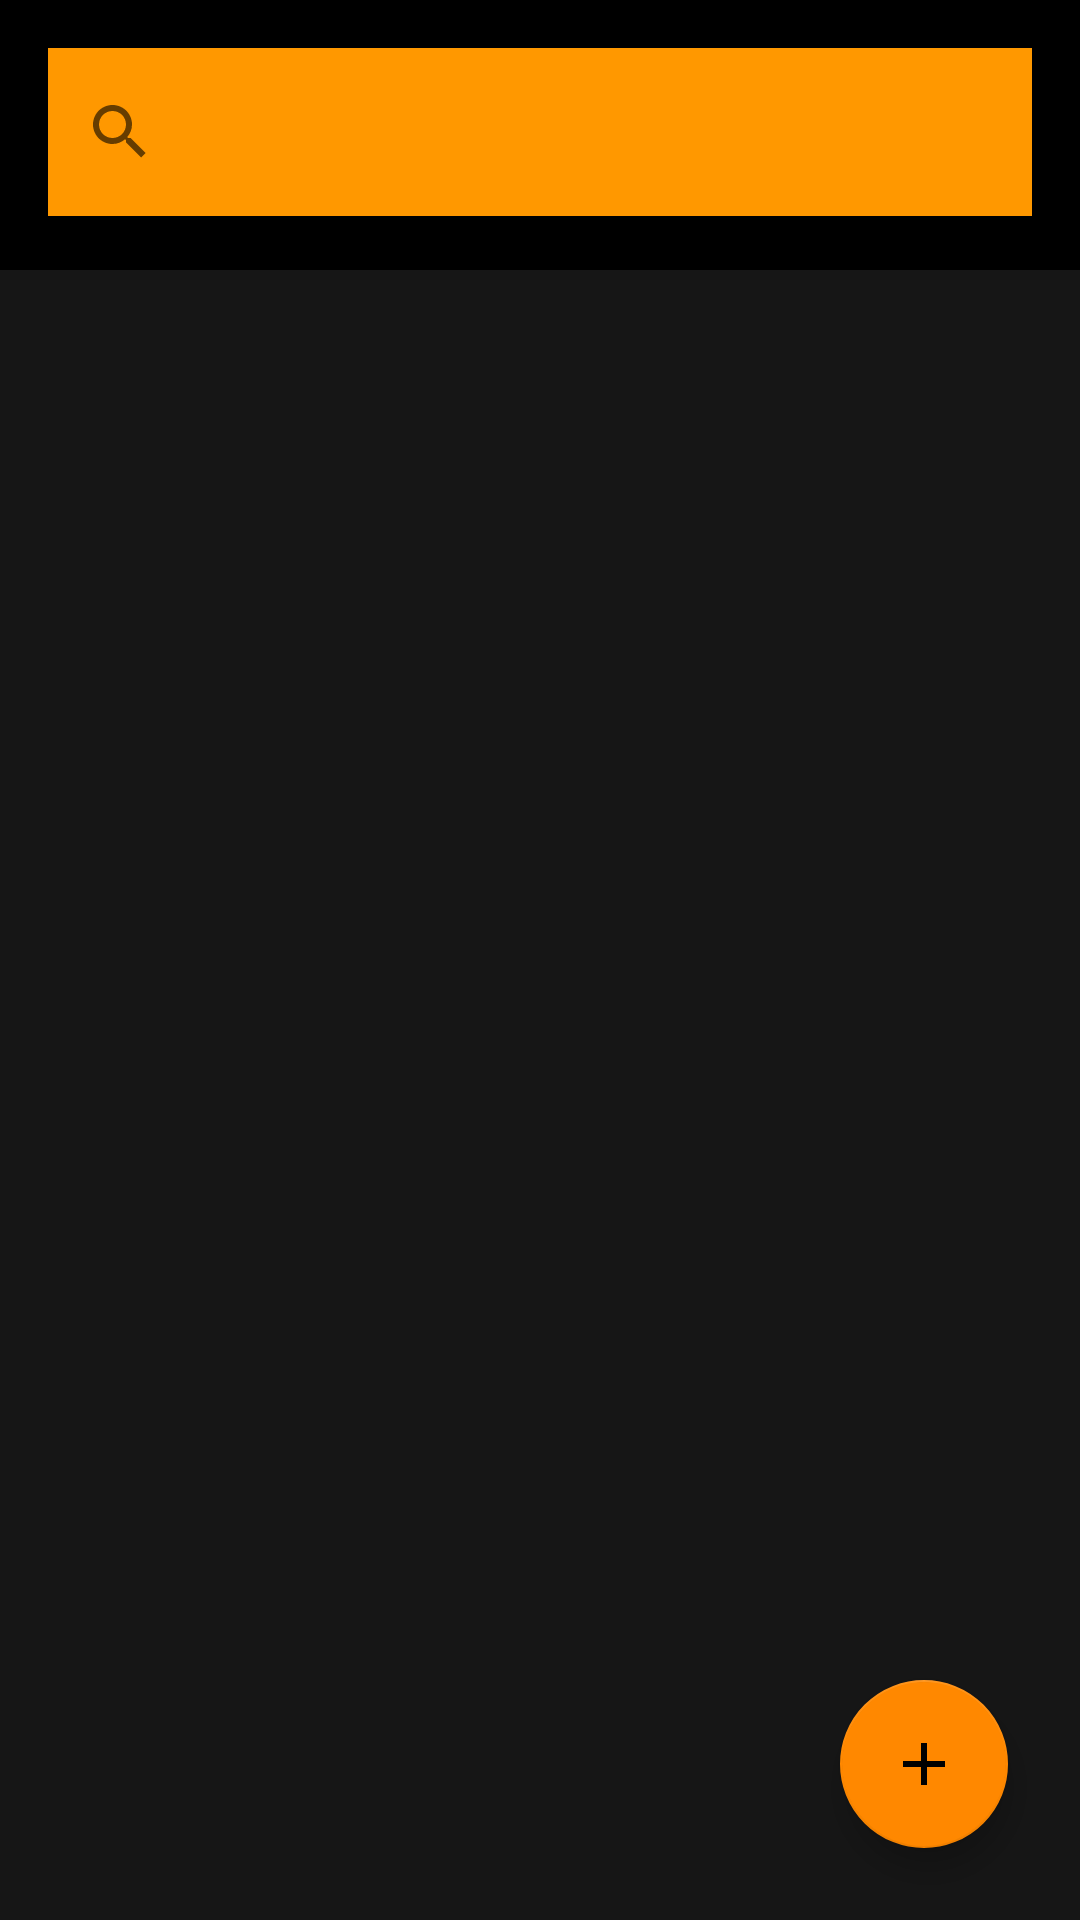

Named icons in this screenshot (1080×1920) and their bounding boxes, {"x1": x1, "y1": y1, "x2": x2, "y2": y2}:
add: {"x1": 840, "y1": 1680, "x2": 1008, "y2": 1848}
